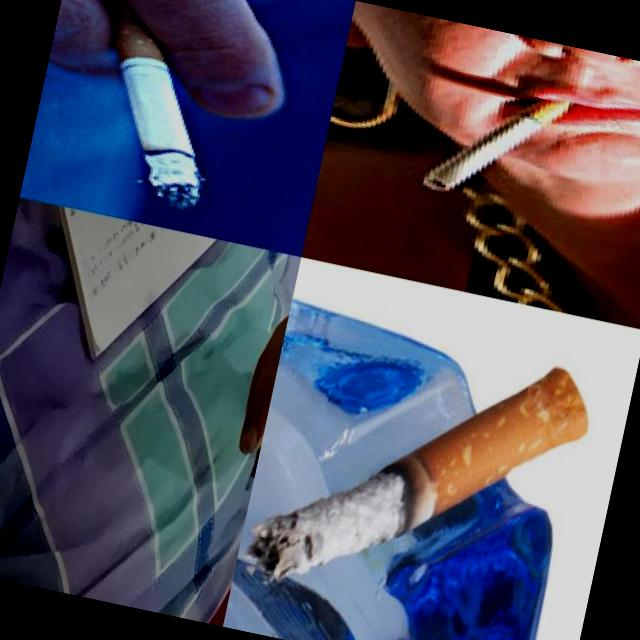cigarette: (242, 308, 602, 637), (78, 9, 236, 214), (418, 72, 573, 215)
